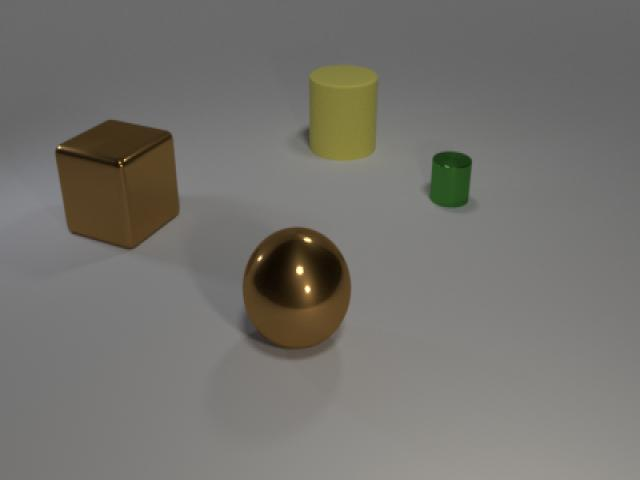cylinder: (300, 55, 388, 164), (425, 141, 475, 213)
round ball: (238, 216, 358, 357)
